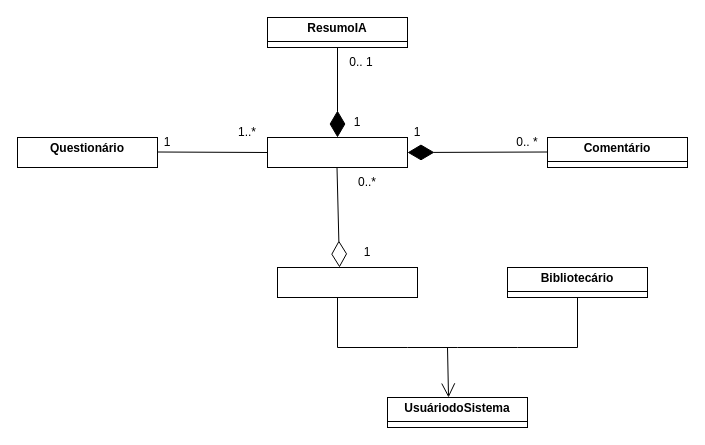
Image size: 705x445. Some labels were removed from this diagram. Here are the shapes that lost their labels. From the top down, the centre of each, then its label:
the point at 337,152: Obra
the point at 347,282: Usuário
